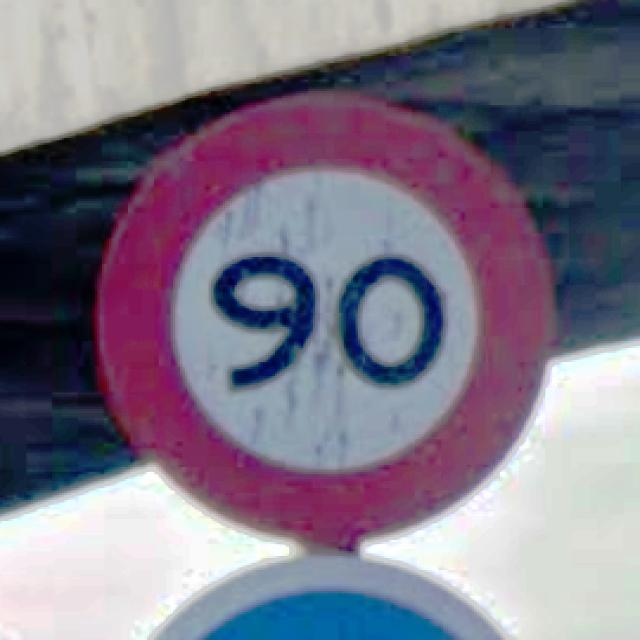max90: (92, 89, 554, 549)
